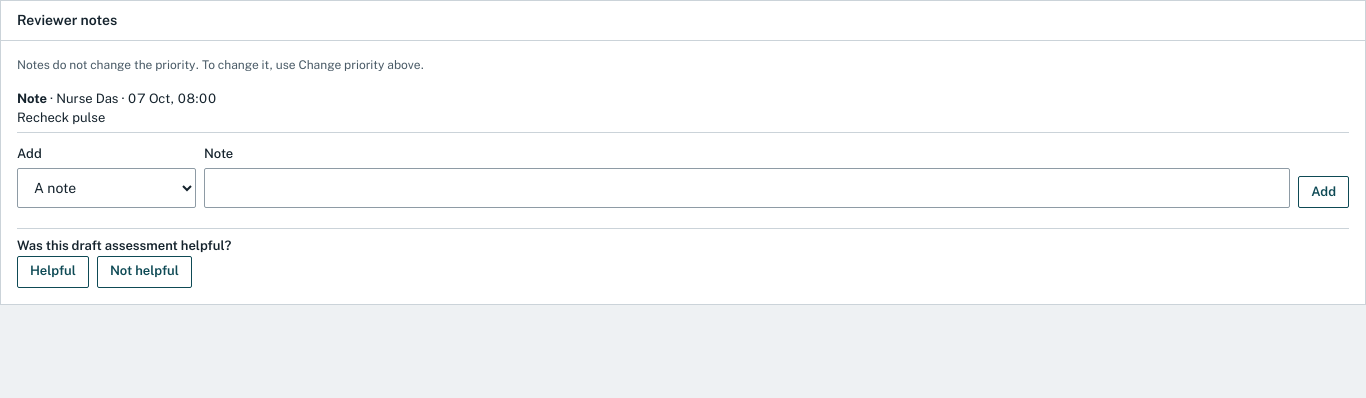
Scenario: NotesPanel › the server's refusal and load failures are shown in words
Type "x" into the field labelled "Note" at (747, 188), box [204,168,1290,208]
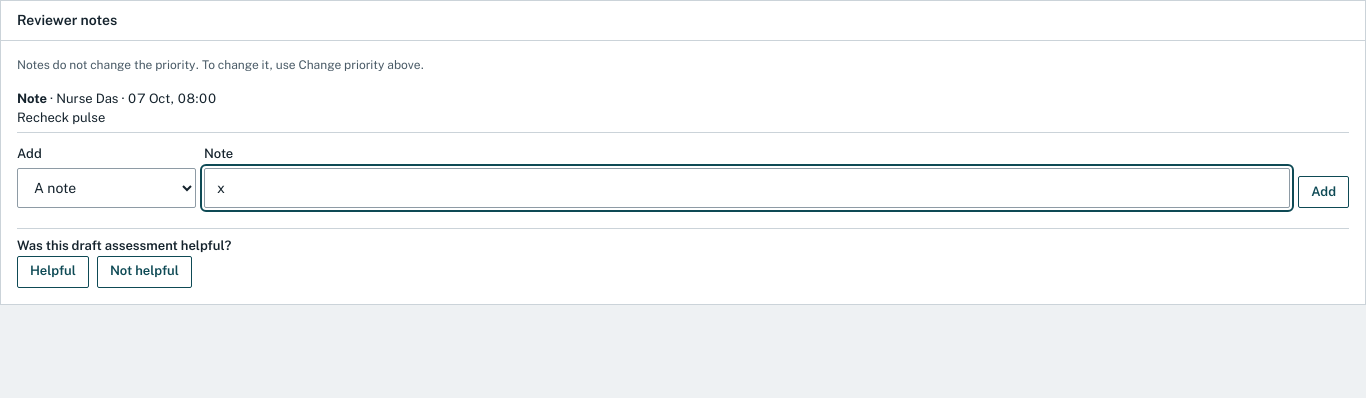
Click the button "Add" at (1324, 192), box [1298,176,1349,208]
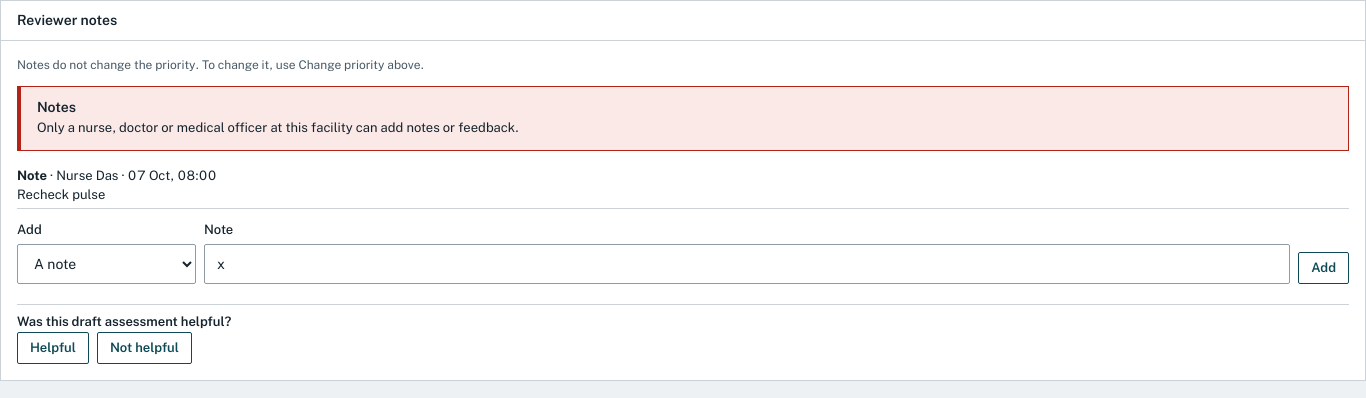
Result: the message shows "nurse, doctor or medical officer" at [37,120,519,135]
